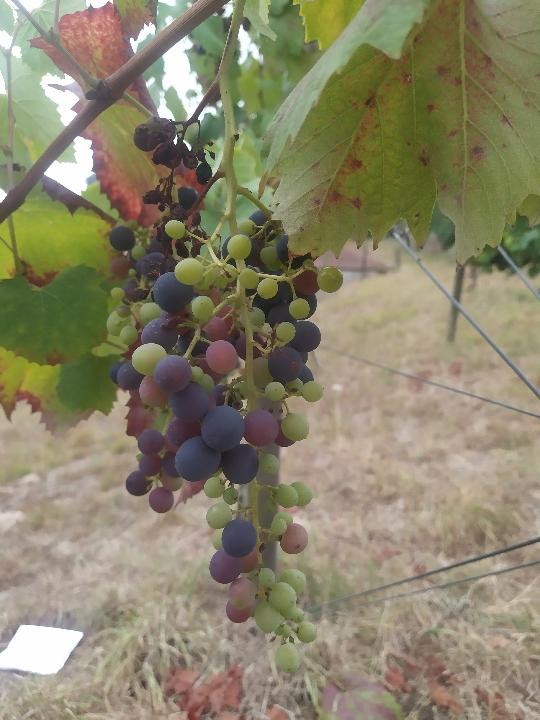grape: (106, 208, 345, 679), (130, 118, 219, 258)
